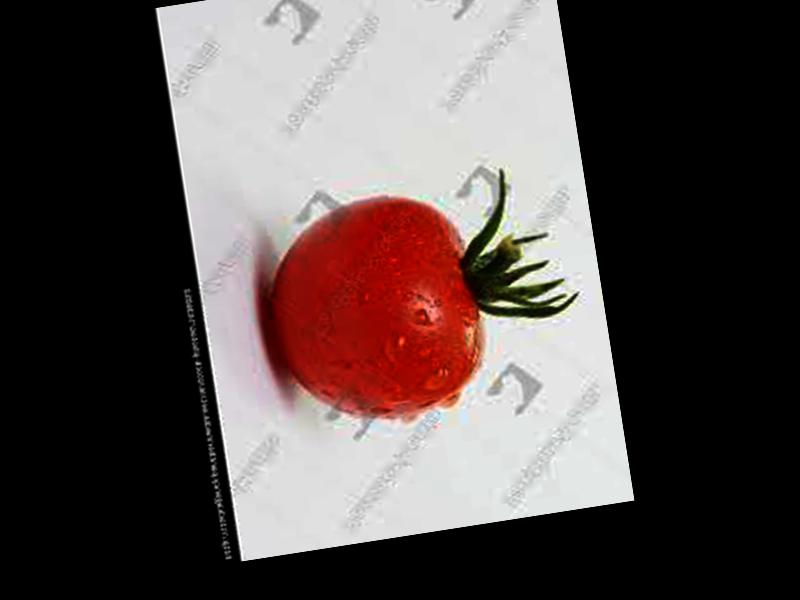Tomato: (255, 185, 489, 433)
